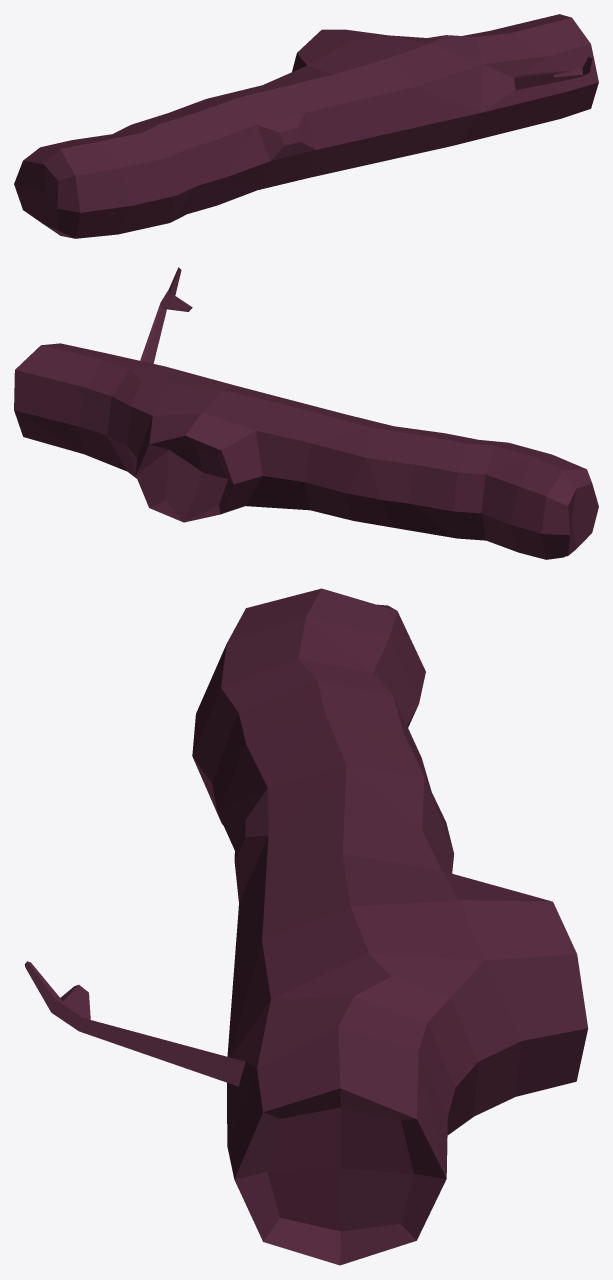
Rendered from treeTrunk_001_grp.fbx.
3 views of the same model, one above another, from view 1: azimuth 30°, elevation 25°; view 2: azimuth 150°, elevation 25°; view 3: azimuth 270°, elevation 25° (orthographic). The views are drawn at different scales.
Parts seen in each view (by area): view 1: treeTrunk_001_grp; view 2: treeTrunk_001_grp; view 3: treeTrunk_001_grp.
Boxes of the visible parts, x1,y1,x2,y2 form: treeTrunk_001_grp: (14,14,598,238); treeTrunk_001_grp: (14,267,598,559); treeTrunk_001_grp: (25,588,588,1265).
Bounding box in the file's own units: 450 × 100 × 200.
